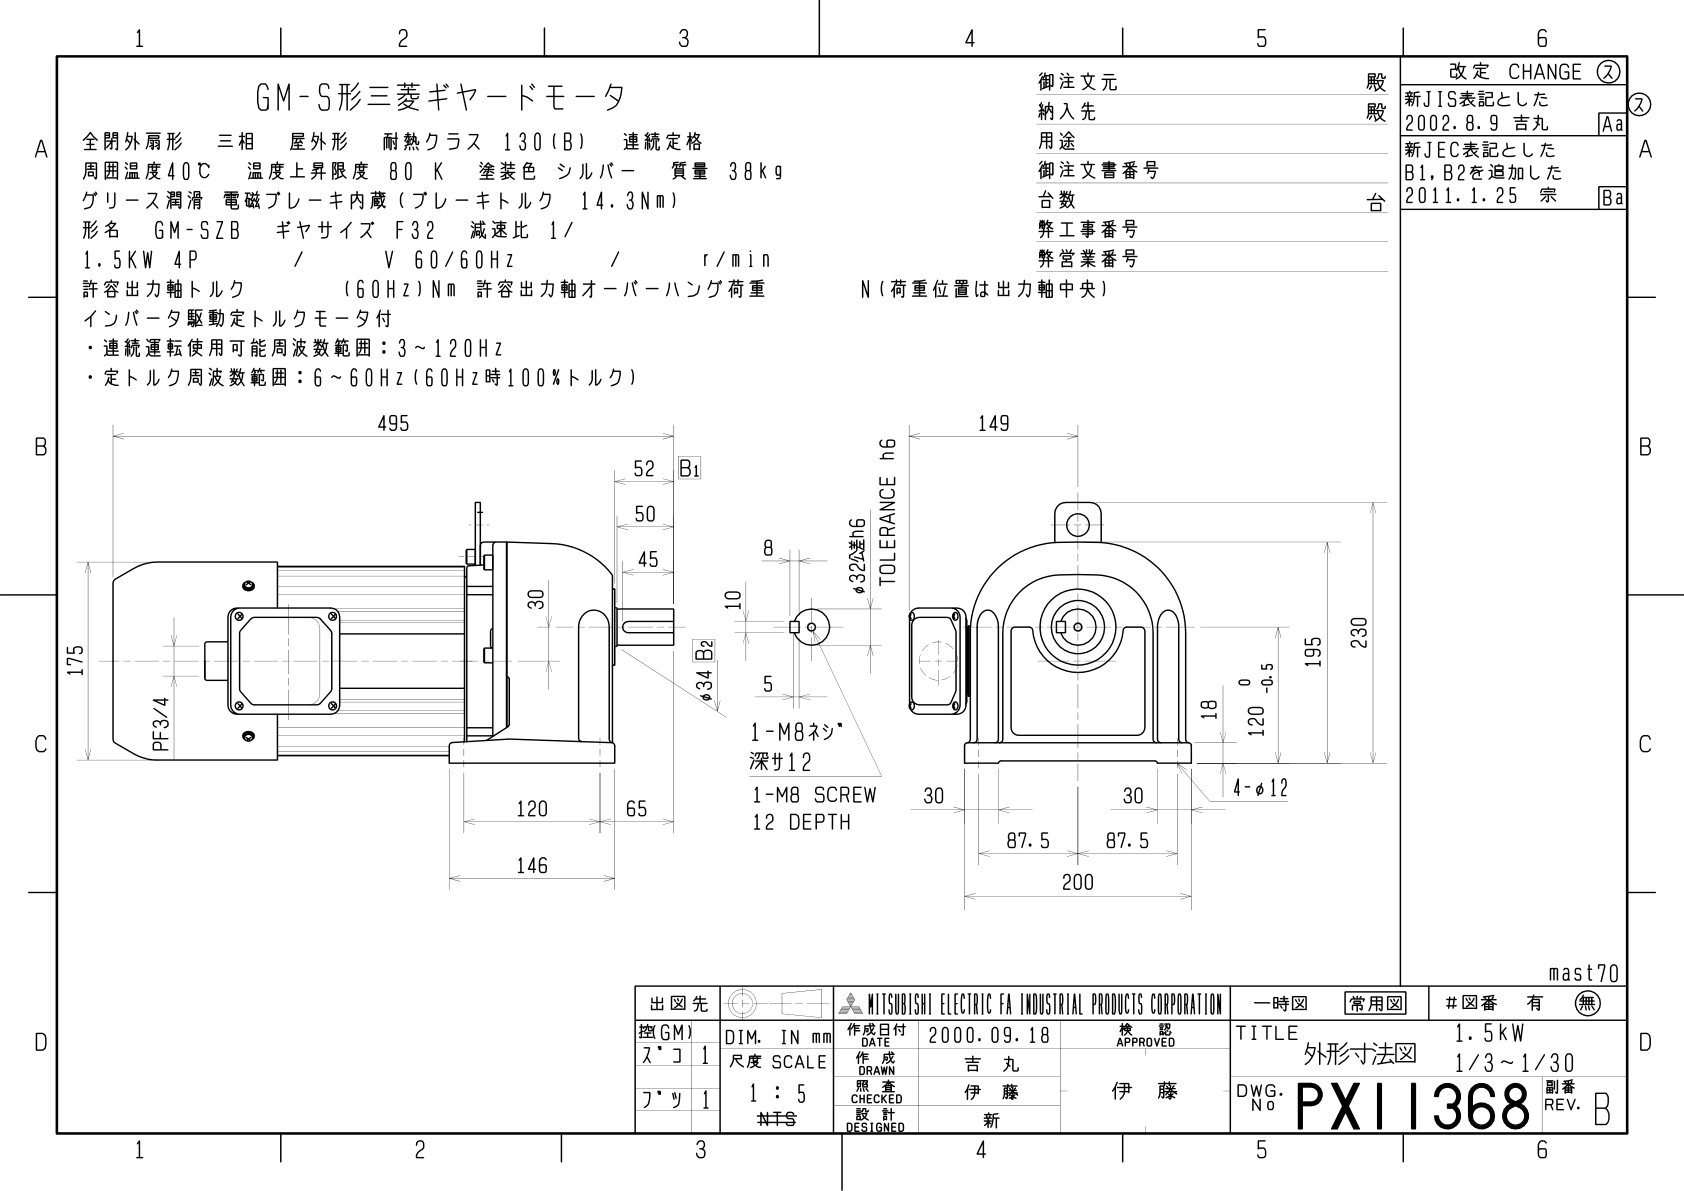GM_S_インバタ屋外＿三相_脚: (6, 15, 1684, 1191)
